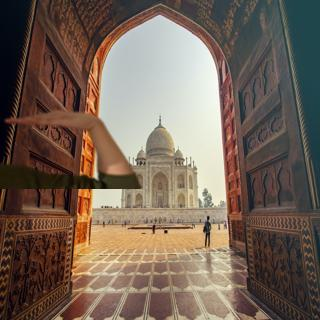WAIT: (4, 103, 100, 132)
